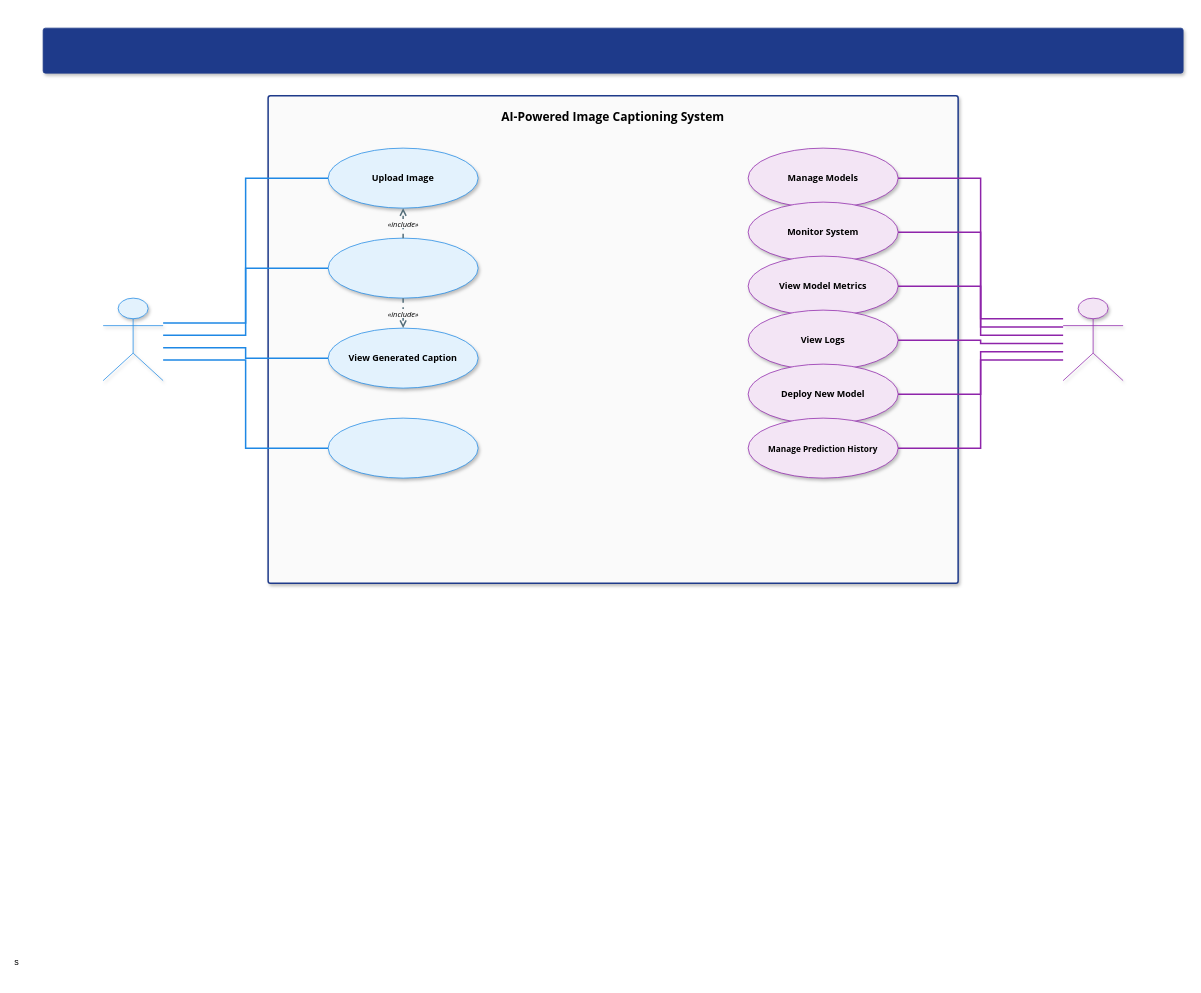
The diagram is 1201 pixels wide and 993 high, and some of its shapes have lost their labels. The shapes that lost their labels are listed below. From the top down, each one's centre as x and y in pixels, then its label:
the point at 613,51: AI-POWERED IMAGE CAPTIONING SYSTEM — UML USE CASE DIAGRAM
the point at 403,268: Generate Caption
the point at 133,340: End User
the point at 1093,340: System Administrator
the point at 403,448: View Prediction History
